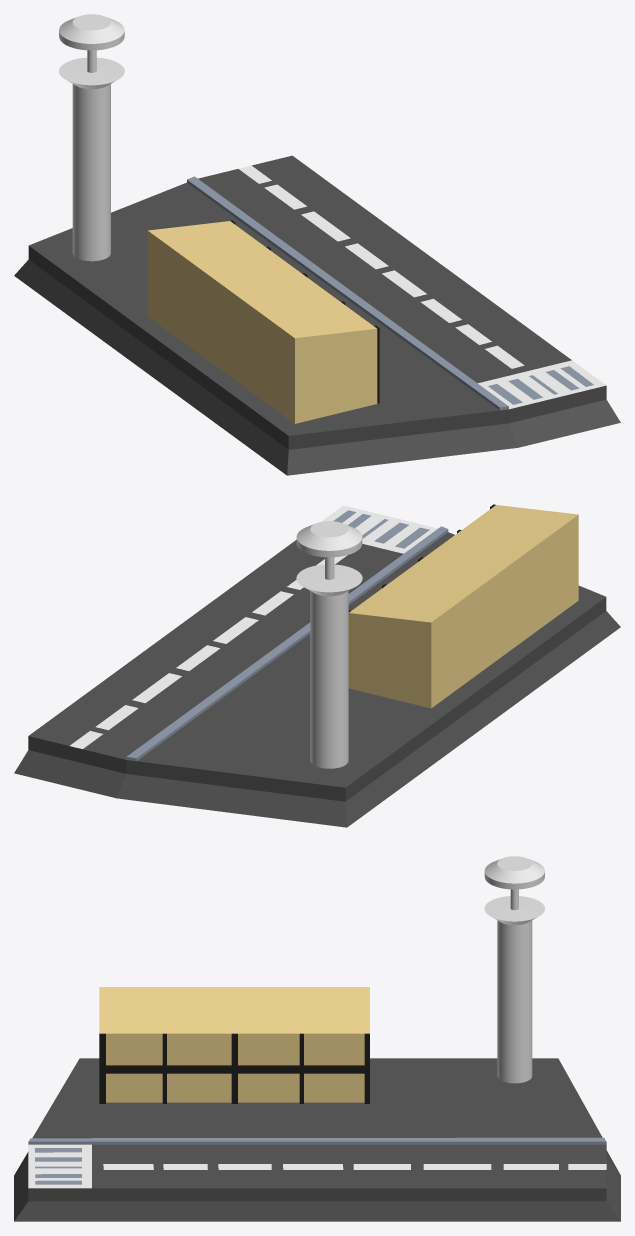
File: airport.fbx
3 renders of one model, top to bottom at view 1: azimuth 30°, elevation 25°; view 2: azimuth 150°, elevation 25°; view 3: azimuth 270°, elevation 25°, orthographic. The views are drawn at different scales.
Visible parts, largest first — view 1: Cube, Cube.001, Cylinder; view 2: Cube, Cube.001, Cylinder; view 3: Cube, Cube.001, Cylinder.
Part boxes in pixels (x1,y1,x2,y2): Cube: (14, 155, 620, 475); Cube.001: (147, 220, 379, 423); Cylinder: (59, 14, 124, 261); Cube: (14, 505, 620, 827); Cube.001: (348, 504, 578, 708); Cylinder: (296, 521, 362, 768); Cube: (14, 1058, 620, 1221); Cube.001: (99, 987, 369, 1103); Cylinder: (484, 856, 544, 1083).
Bounding box in the file's own units: 4555 × 3771 × 8545.
